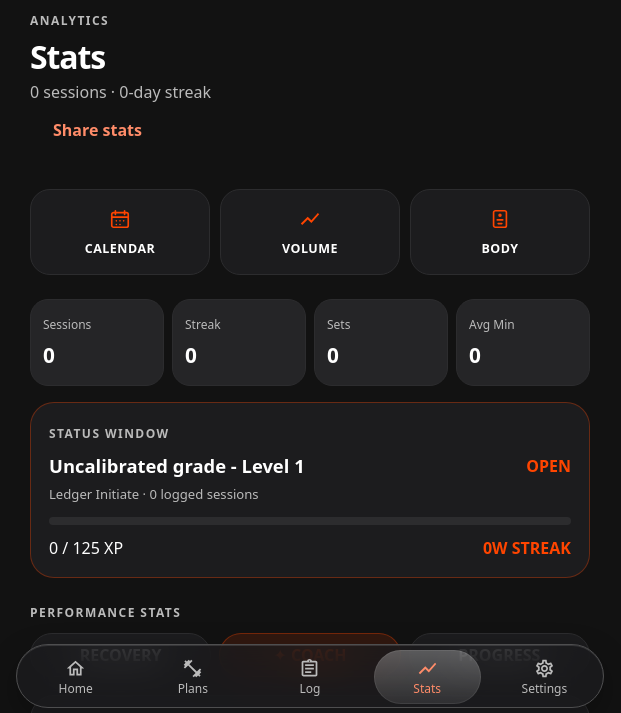
it: opens the calendar route from Stats
The width and height of the screenshot is (621, 713).
Step 1. Click the button "Calendar" → x=120, y=232, box [30,189,210,275]
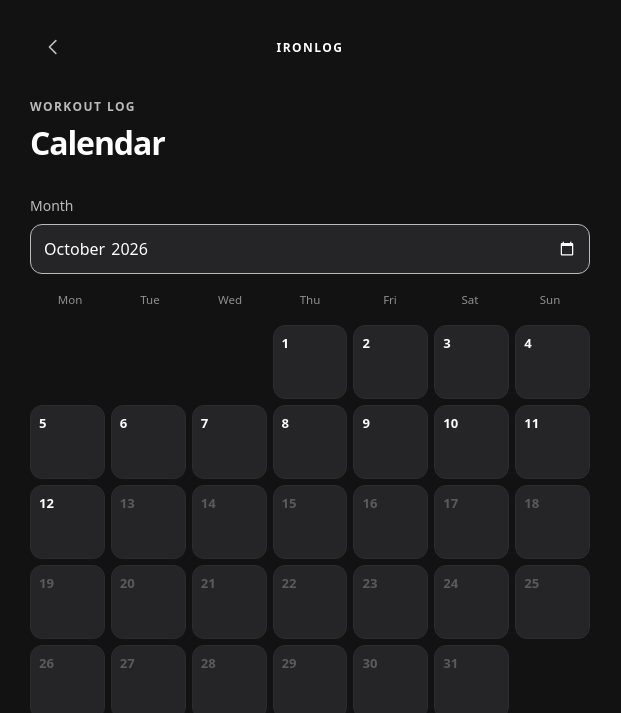
expect the heading "Calendar" is shown: met, box [30,121,165,164]
